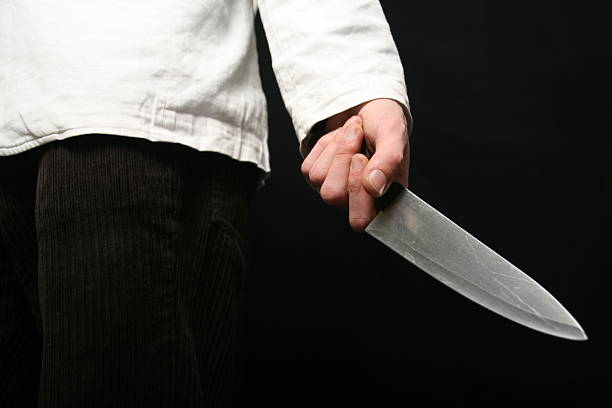knife: (360, 183, 590, 342)
